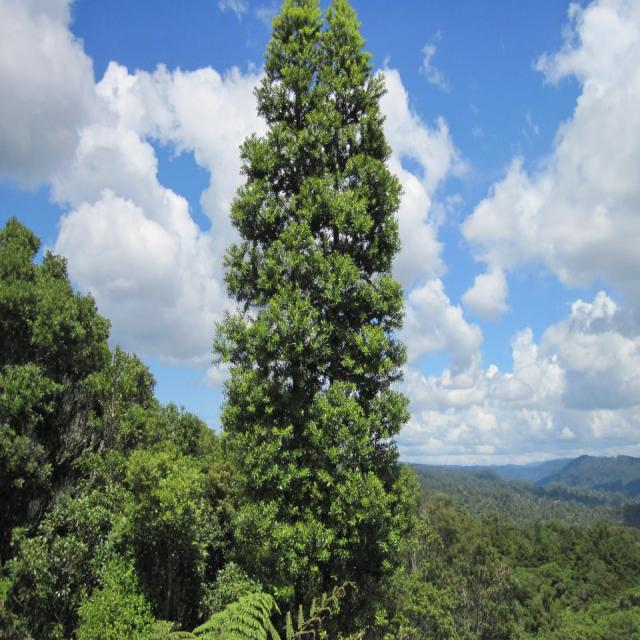Kauri: (222, 4, 410, 591)
